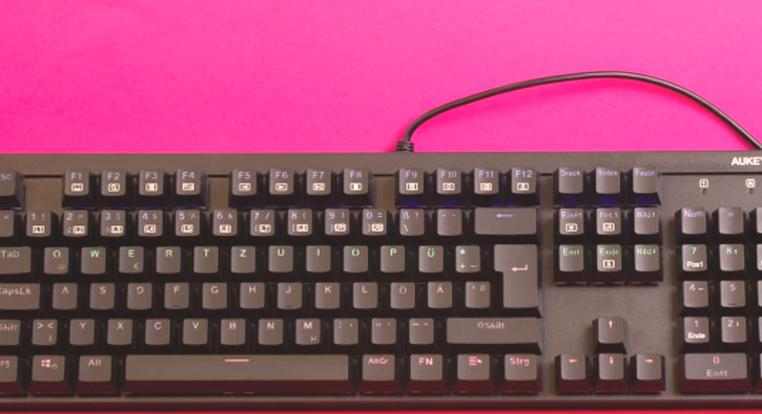0: (361, 207, 388, 235)
1: (25, 208, 52, 238)
2: (61, 207, 88, 237)
3: (99, 208, 127, 238)
4: (137, 208, 165, 238)
5: (173, 207, 201, 237)
6: (211, 206, 239, 236)
7: (248, 207, 276, 236)
8: (287, 207, 314, 235)
9: (324, 207, 351, 235)
a: (50, 280, 77, 308)
accent: (435, 206, 462, 238)
ae: (426, 279, 452, 307)
alt-left: (76, 352, 112, 381)
altgr-right: (360, 352, 396, 380)
b: (219, 316, 246, 344)
c: (143, 316, 170, 343)
caret: (1, 206, 13, 236)
comma: (332, 316, 358, 344)
d: (126, 280, 152, 308)
del: (473, 206, 536, 233)
e: (117, 244, 144, 272)
enter: (493, 241, 538, 307)
f: (163, 280, 189, 307)
g: (201, 280, 227, 307)
h: (238, 280, 265, 307)
hash: (464, 279, 490, 306)
i: (305, 243, 331, 270)
j: (276, 280, 302, 307)
k: (314, 280, 340, 307)
keyboard: (1, 145, 762, 414)
l: (351, 280, 377, 307)
less: (30, 317, 57, 344)
m: (294, 316, 321, 344)
minus: (407, 316, 434, 343)
n: (256, 316, 283, 344)
o: (343, 245, 369, 273)
oe: (389, 280, 415, 307)
p: (379, 243, 405, 271)
plus: (453, 243, 479, 272)
point: (370, 316, 396, 343)
q: (42, 244, 69, 273)
r: (155, 244, 181, 272)
s: (88, 281, 115, 308)
shift-left: (1, 316, 21, 345)
shift-lock: (1, 280, 40, 309)
shift-right: (444, 315, 540, 343)
space: (121, 353, 350, 380)
ss: (398, 208, 425, 236)
strg-left: (1, 353, 19, 382)
strg-right: (502, 352, 539, 380)
t: (193, 244, 218, 272)
tab: (1, 244, 32, 273)
u: (267, 243, 294, 271)
ue: (417, 243, 443, 271)
v: (181, 316, 208, 343)
w: (79, 244, 106, 273)
x: (106, 316, 132, 344)
y: (68, 317, 94, 344)
z: (230, 244, 255, 271)
